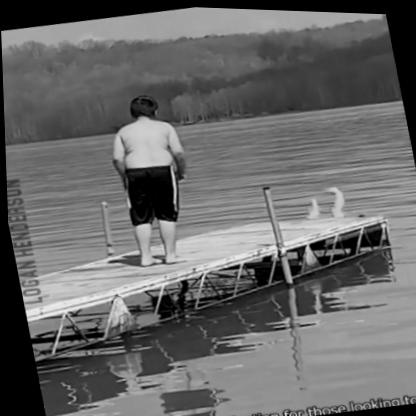person: (103, 80, 198, 268)
